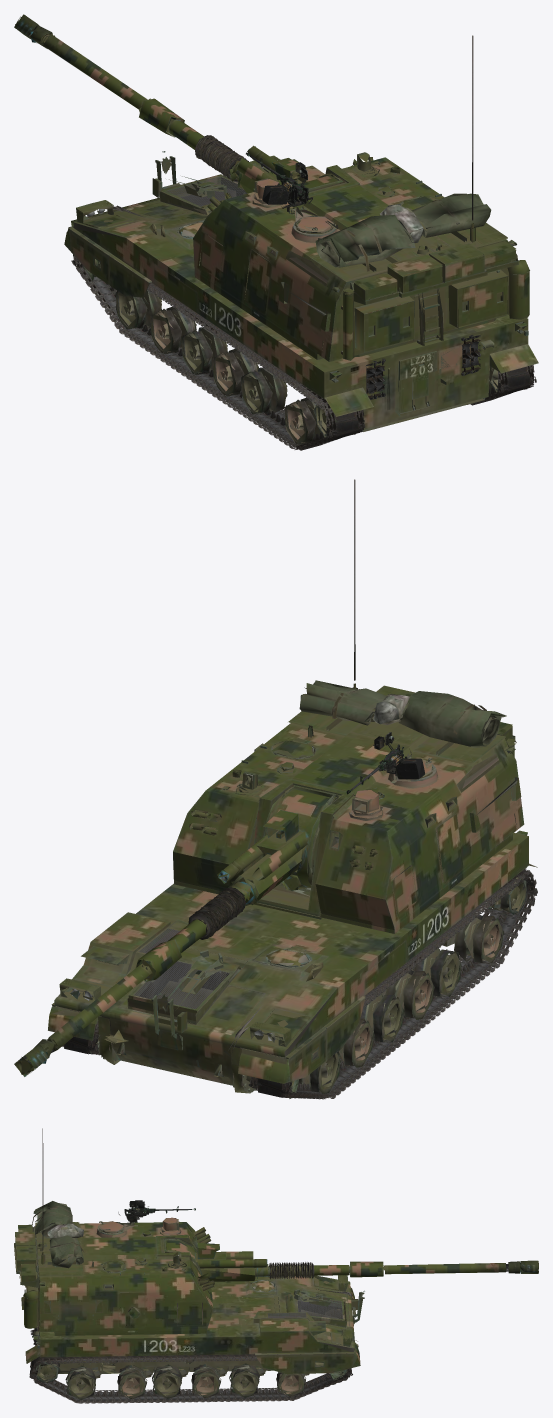
The model's file is type_plz05.glb.
3 views of the same model, one above another, from view 1: azimuth 30°, elevation 25°; view 2: azimuth 150°, elevation 25°; view 3: azimuth 270°, elevation 25° (orthographic). The views are drawn at different scales.
Parts seen in each view (by area): view 1: Object_30, Object_13, Object_5, Object_25, Object_29, Object_3, Object_28, Object_27, Object_6; view 2: Object_13, Object_30, Object_25, Object_5, Object_6, Object_27, Object_3, Object_28; view 3: Object_13, Object_30, Object_25, Object_5, Object_6, Object_27, Object_3, Object_28.
Boxes of the visible parts, x1,y1,x2,y2 form: Object_30: (193,152,529,361); Object_13: (64,151,538,445); Object_5: (71,254,536,450); Object_25: (14,14,337,232); Object_29: (366,335,481,399); Object_3: (195,135,248,182); Object_28: (262,162,313,211); Object_27: (167,176,246,206); Object_6: (73,188,486,429); Object_13: (48,830,537,1098); Object_30: (173,680,524,933); Object_25: (14,789,336,1076); Object_5: (62,867,537,1099); Object_6: (57,878,394,1086); Object_27: (134,928,229,1008); Object_3: (188,887,245,939); Object_28: (373,732,424,779); Object_13: (21,1275,364,1399); Object_30: (14,1201,214,1335); Object_25: (105,1240,538,1287); Object_5: (29,1354,352,1403); Object_6: (61,1283,353,1372); Object_27: (268,1297,342,1319); Object_3: (269,1262,314,1279); Object_28: (118,1200,148,1224).
Bounding box in the file's own units: 3.79 × 6.31 × 11.55.
Materials: 17 (17 with a texture image).
